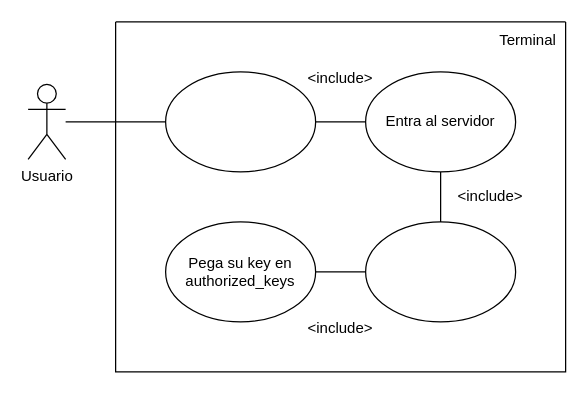
Some shapes in this 588 by 394 pixel diagram are drawn without their labels. The centre of each missing label's shape, as x and y in pixels:
"Genera llave ssh (ssh-keygen)" goes at [240,121].
"Pone la contraseña del servidor" goes at [440,271].
